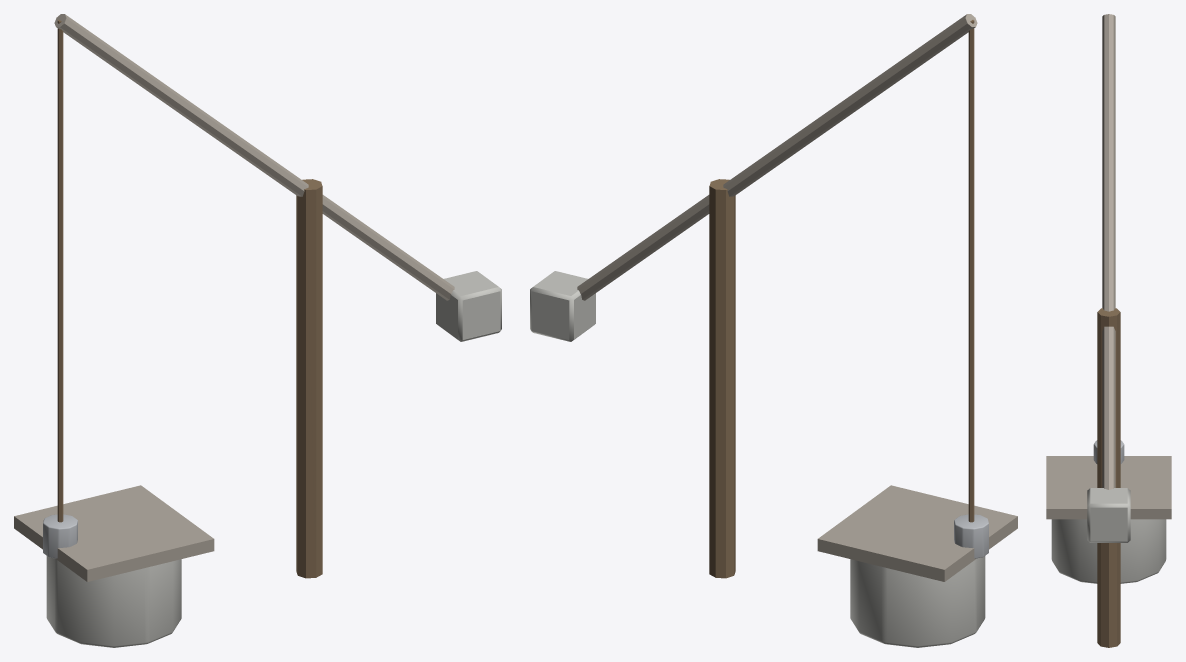
Rendered from Studnia_Zuraw.fbx.
3 views of the same model, side by side, from view 1: azimuth 30°, elevation 25°; view 2: azimuth 150°, elevation 25°; view 3: azimuth 270°, elevation 25° (orthographic). The views are drawn at different scales.
Visible parts, largest first — view 1: Studnia_Zuraw; view 2: Studnia_Zuraw; view 3: Studnia_Zuraw.
Boxes of the visible parts, <box> form: Studnia_Zuraw: <box>14,14,501,647</box>; Studnia_Zuraw: <box>530,14,1017,647</box>; Studnia_Zuraw: <box>1046,14,1171,647</box>.
Size of the model in its own units: 4.56 by 6.05 by 1.3.
